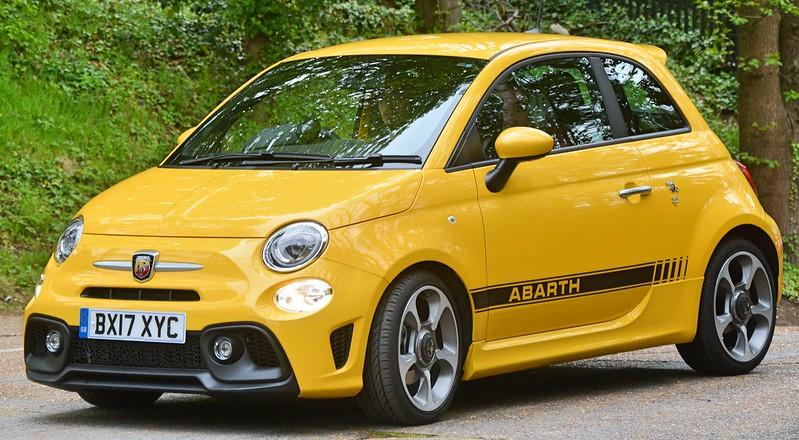windshield: (163, 51, 493, 168)
